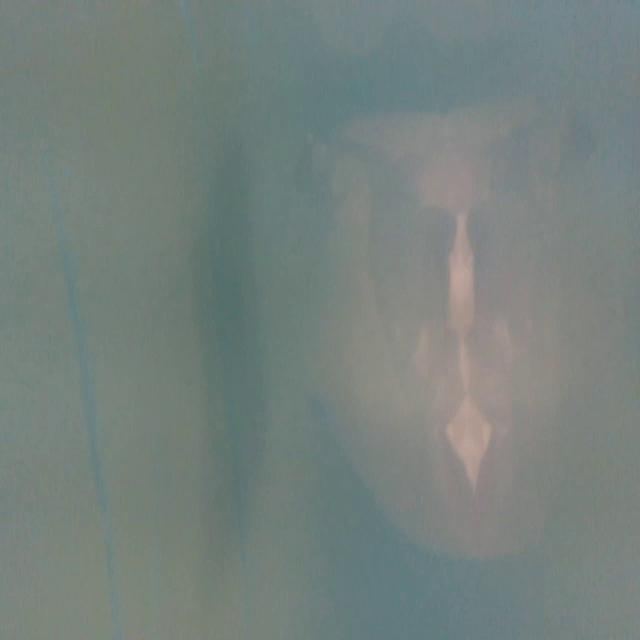plastic bags: (302, 115, 606, 561)
